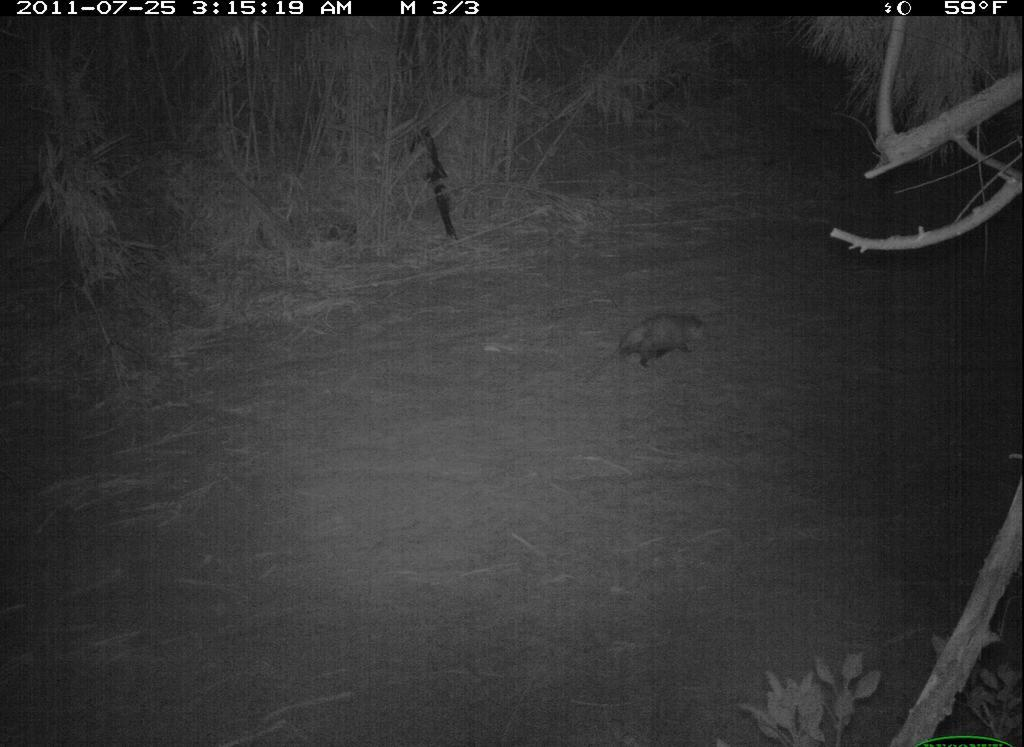opossum: (575, 299, 721, 387)
